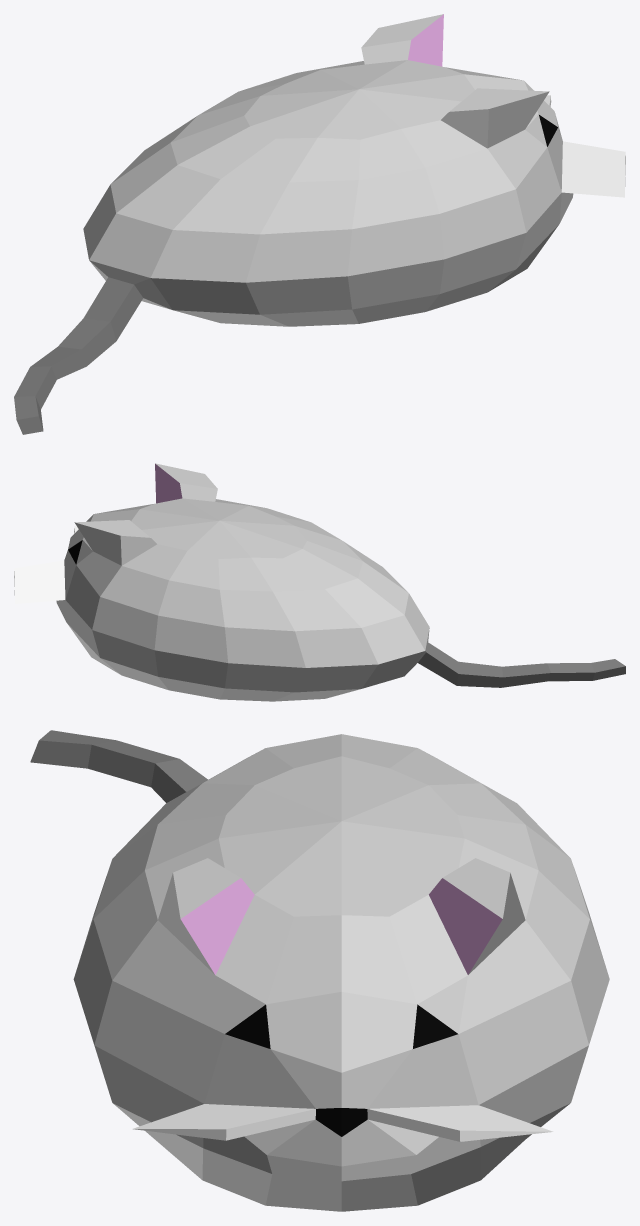
Rendered from cattoy1.glb.
3 renders of one model, top to bottom at view 1: azimuth 30°, elevation 25°; view 2: azimuth 150°, elevation 25°; view 3: azimuth 270°, elevation 25°, orthographic. The views are drawn at different scales.
Parts seen in each view (by area): view 1: Sphere.003; view 2: Sphere.003; view 3: Sphere.003.
Boxes of the visible parts, x1,y1,x2,y2 form: Sphere.003: (14, 14, 625, 434); Sphere.003: (14, 463, 625, 701); Sphere.003: (30, 730, 609, 1211).
Bounding box in the file's own units: 0.0536 × 0.0154 × 0.0264.
Materials: 1 (1 with a texture image).
